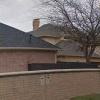Chimney: (31, 16, 45, 38)
